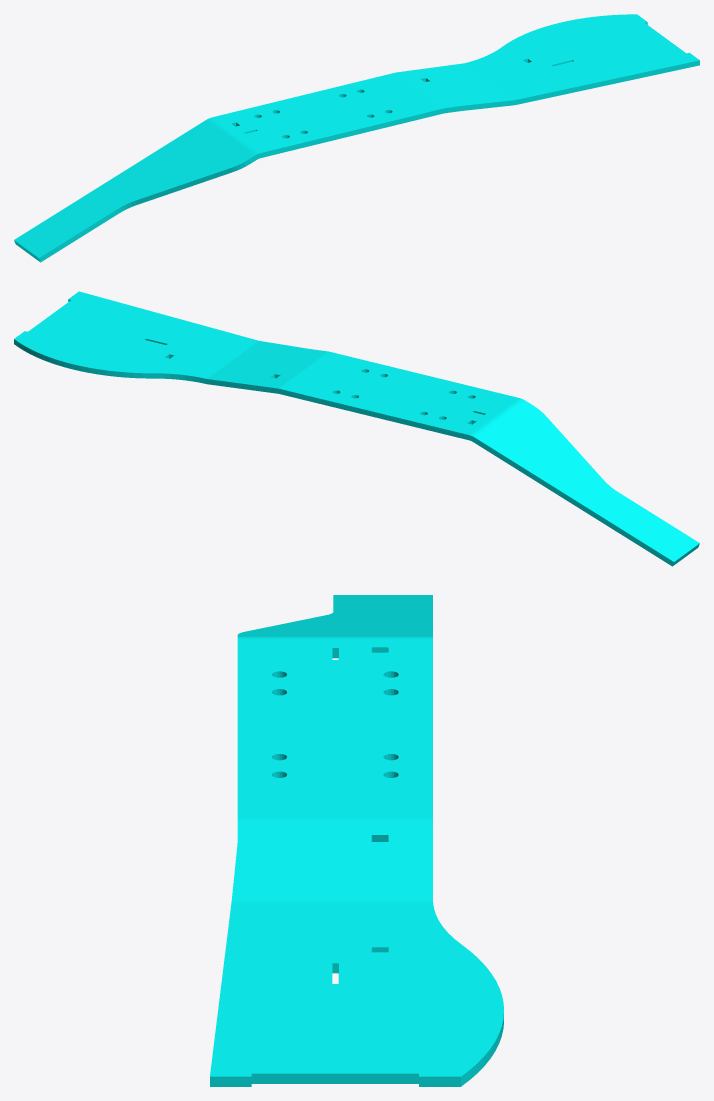
File: 1170138_ROB_2_180_34.obj
The picture shows the model from 3 angles, top to bottom: view 1: azimuth 30°, elevation 25°; view 2: azimuth 150°, elevation 25°; view 3: azimuth 270°, elevation 25°; orthographic projection. The views are drawn at different scales.
Visible parts, largest first — view 1: 2388244804048; view 2: 2388244804048; view 3: 2388244804048.
Part boxes in pixels (x1,y1,x2,y2): 2388244804048: (14,14,699,262); 2388244804048: (14,291,699,566); 2388244804048: (210,595,503,1086).
Size of the model in its own units: 1043 by 125 by 211.
